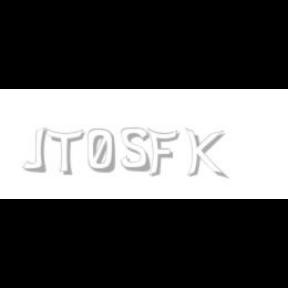0: (88, 128, 119, 174)
F: (147, 128, 179, 178)
J: (22, 128, 46, 172)
K: (185, 128, 225, 180)
S: (120, 128, 152, 172)
T: (44, 128, 84, 176)
